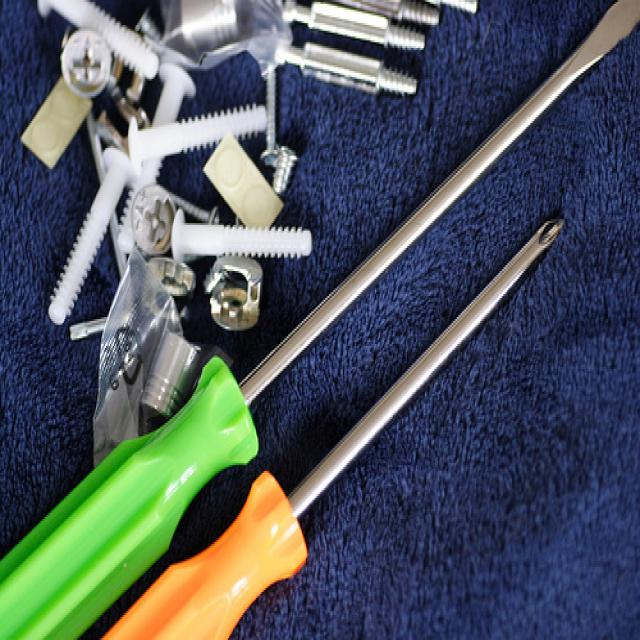screw_driver: (0, 0, 640, 640), (99, 217, 564, 640)
